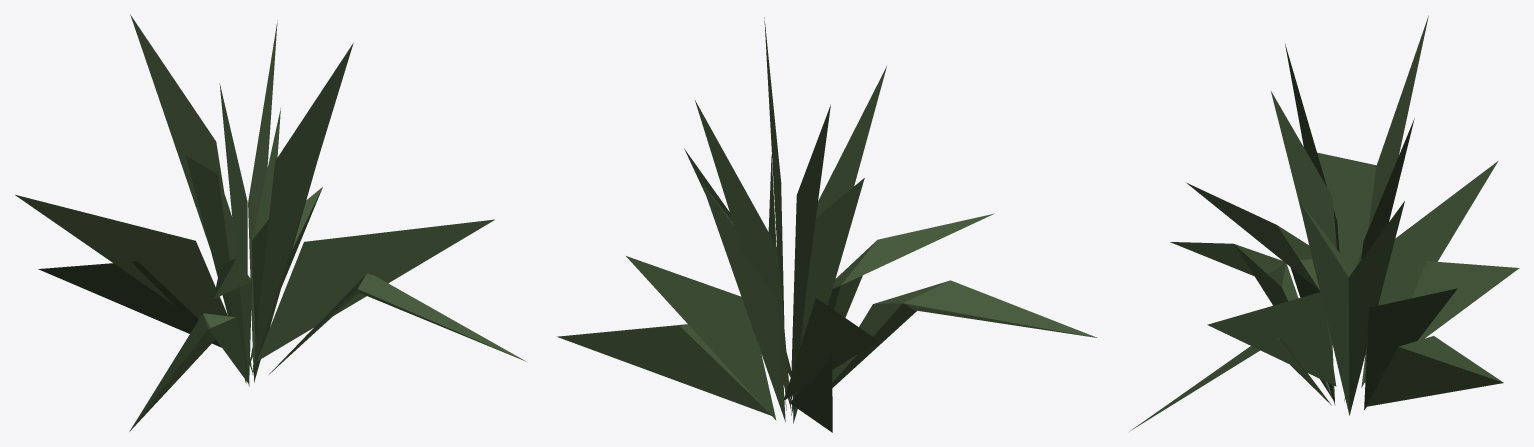
Rendered from Plant_3.lod3.glb.
3 views of the same model, side by side, from view 1: azimuth 30°, elevation 25°; view 2: azimuth 150°, elevation 25°; view 3: azimuth 270°, elevation 25° (orthographic). The views are drawn at different scales.
Visible parts, largest first — view 1: Plant_3; view 2: Plant_3; view 3: Plant_3.
Boxes of the visible parts, x1,y1,x2,y2 form: Plant_3: [15, 14, 526, 431]; Plant_3: [557, 17, 1097, 432]; Plant_3: [1129, 15, 1519, 431].
Size of the model in its own units: 1.05 by 0.9409 by 0.9268.
